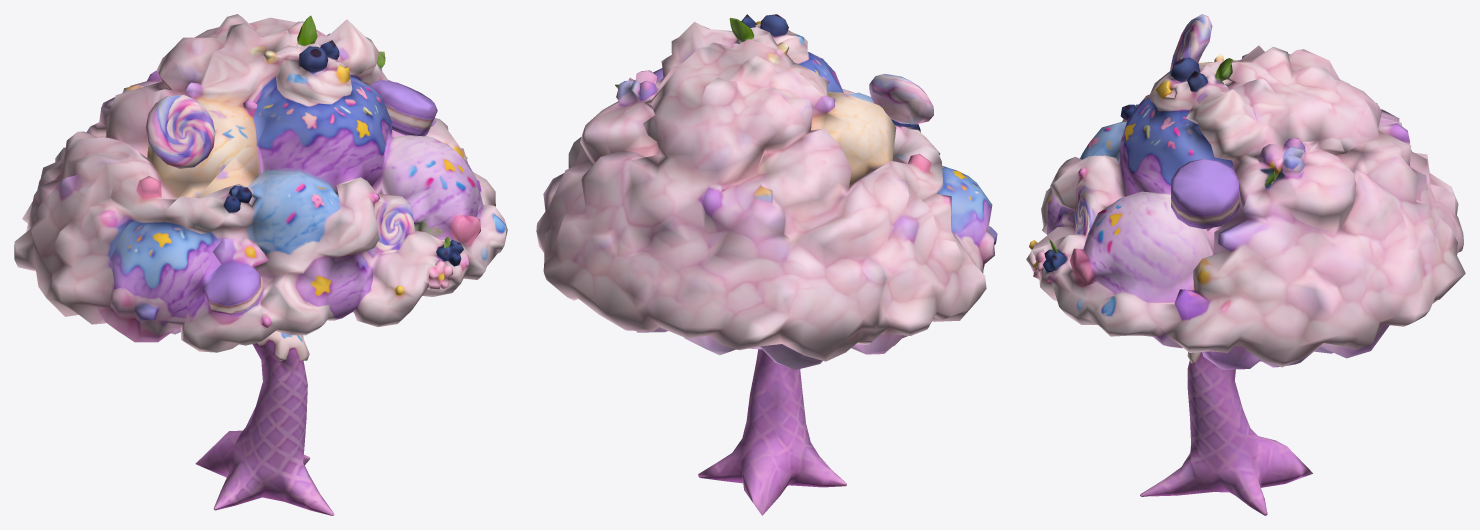
The model's file is snow64-sundae-tree-lavender.glb.
3 views of the same model, side by side, from view 1: azimuth 30°, elevation 25°; view 2: azimuth 150°, elevation 25°; view 3: azimuth 270°, elevation 25° (orthographic). The views are drawn at different scales.
Parts seen in each view (by area): view 1: geometry_0; view 2: geometry_0; view 3: geometry_0.
Boxes of the visible parts, <box> form: geometry_0: <box>14,14,507,515</box>; geometry_0: <box>536,14,997,515</box>; geometry_0: <box>1026,14,1465,515</box>.
Size of the model in its own units: 0.9253 by 0.9536 by 0.8447.
1 material, 1 textured.
